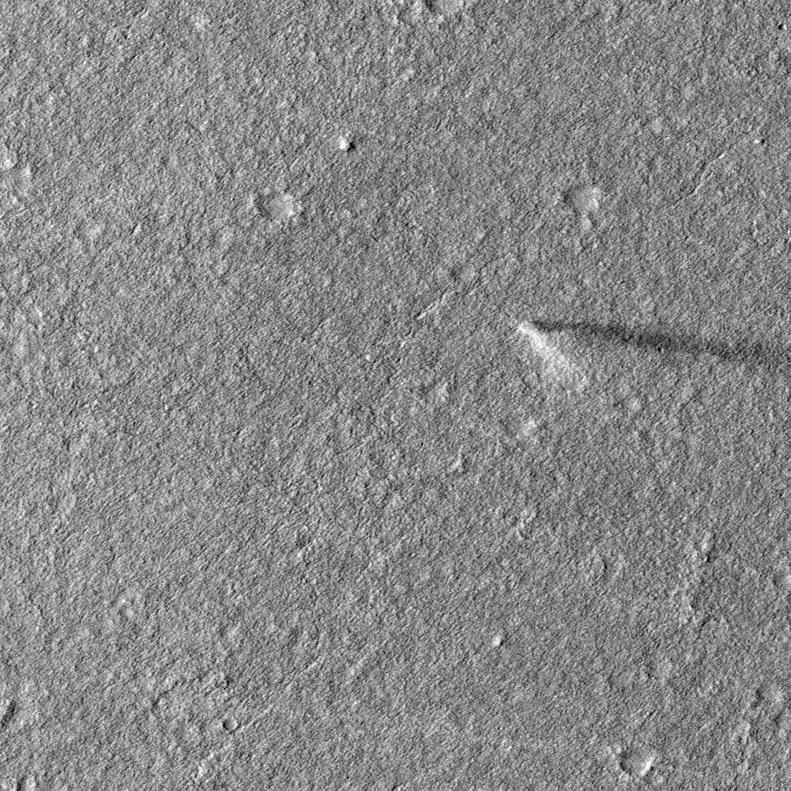dust_devil: (514, 317, 791, 391)
